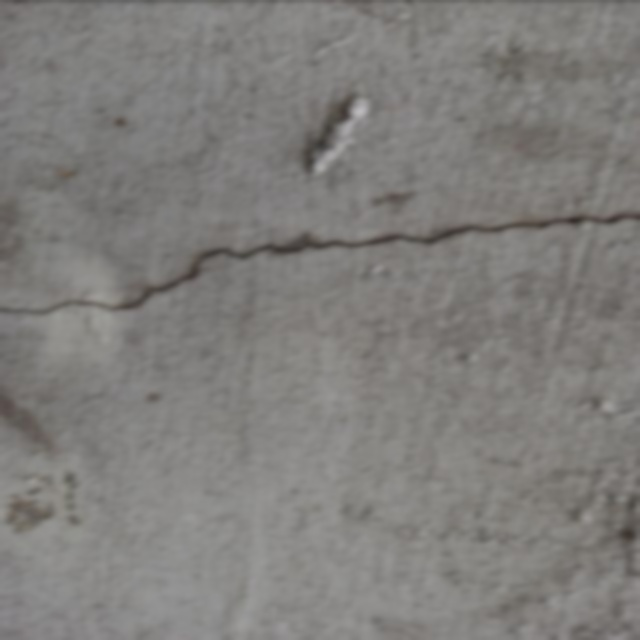SurfaceCrack: (0, 161, 639, 350)
